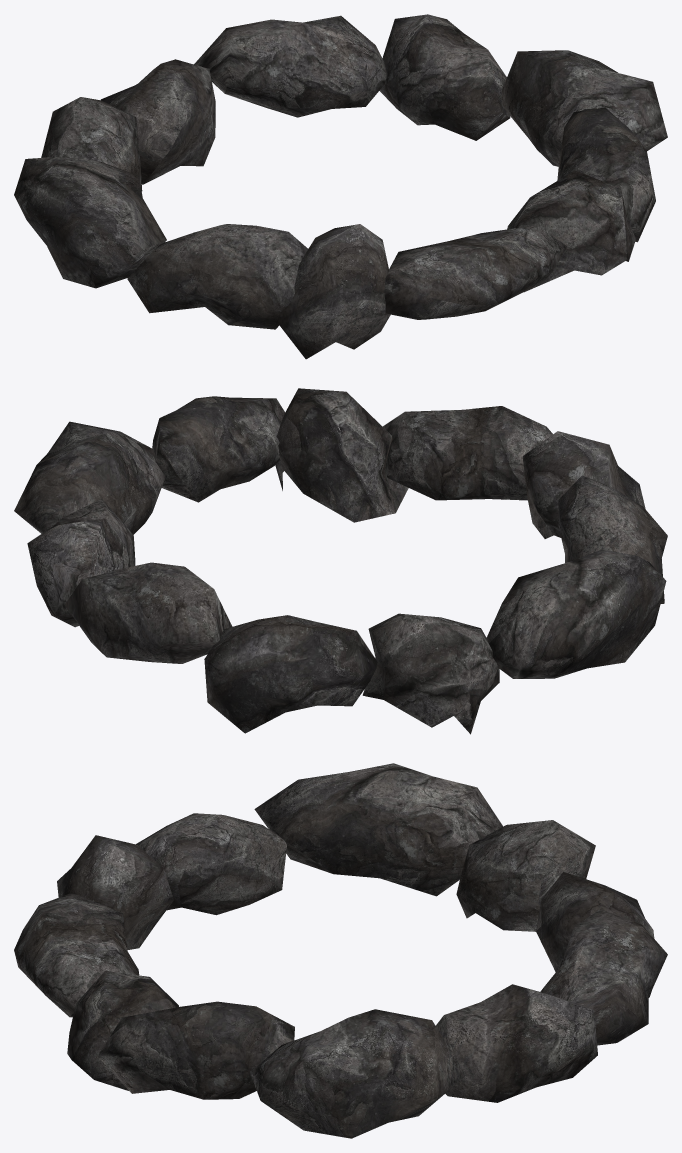
File: FIRE_RING.fbx
The picture shows the model from 3 angles, top to bottom: view 1: azimuth 30°, elevation 25°; view 2: azimuth 150°, elevation 25°; view 3: azimuth 270°, elevation 25°; orthographic projection. The views are drawn at different scales.
Visible parts, largest first — view 1: FIRE_RING; view 2: FIRE_RING; view 3: FIRE_RING.
Boxes of the visible parts, left/top/right/bottom form: FIRE_RING: left=14, top=14, right=667, bottom=359; FIRE_RING: left=14, top=388, right=667, bottom=734; FIRE_RING: left=14, top=763, right=667, bottom=1138.
Size of the model in its own units: 175 by 33.82 by 160.
Materials: 1 (1 with a texture image).
